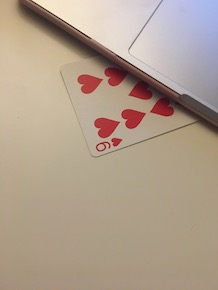NineOfHearts: (52, 45, 206, 160)
